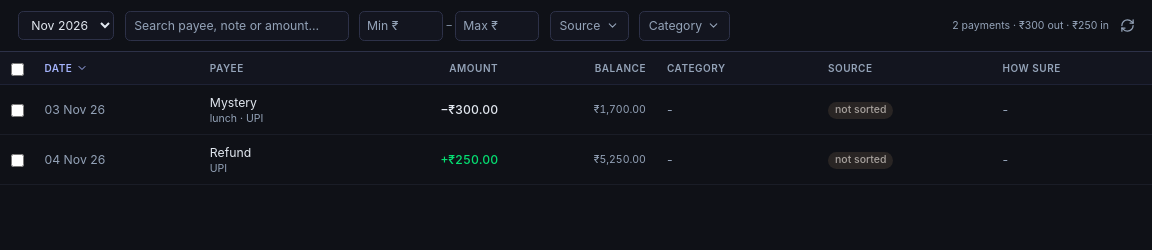
Transactions when the API fails › says the categories could not load when you pick rows to set one
Click the checkbox named "Select payment" next to "03 Nov 26". click: (17, 111)
box: [10, 104, 24, 117]
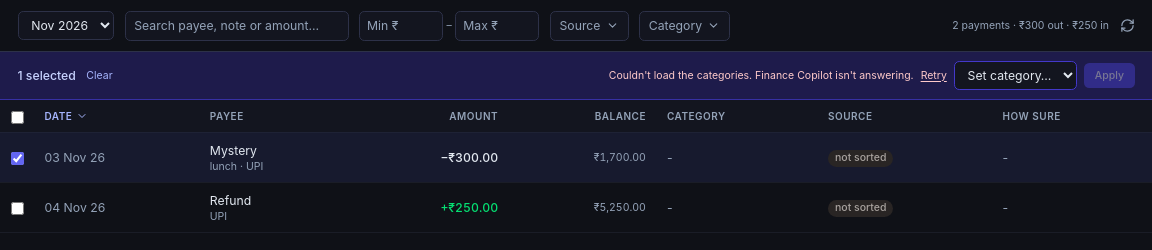
Result: the message shows "Couldn't load the categories." at [609, 68, 947, 82]
Click the button "Retry". click: (934, 76)
box: [921, 68, 947, 82]
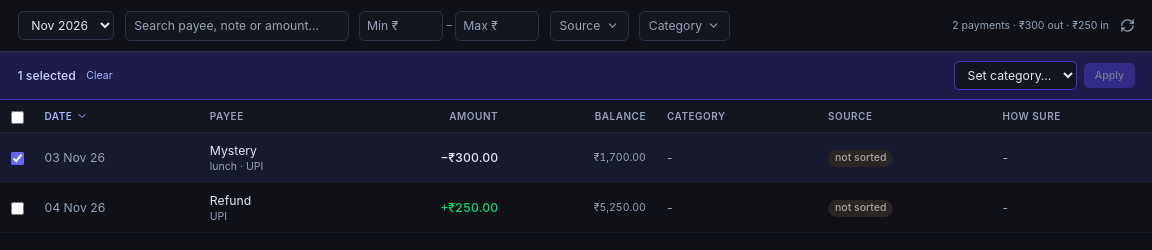
Result: the message "Couldn't load the categories. Finance Copilot isn't answering. Retry" is gone
